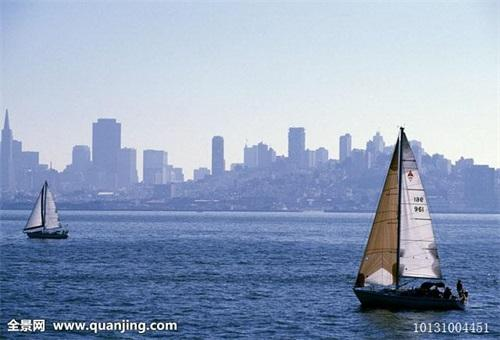Ship: (353, 128, 468, 314), (23, 180, 71, 242)
